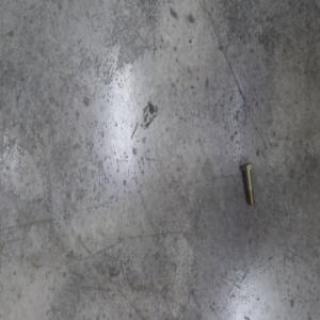Bolttrack_idkeyframe: (240, 159, 255, 205)
